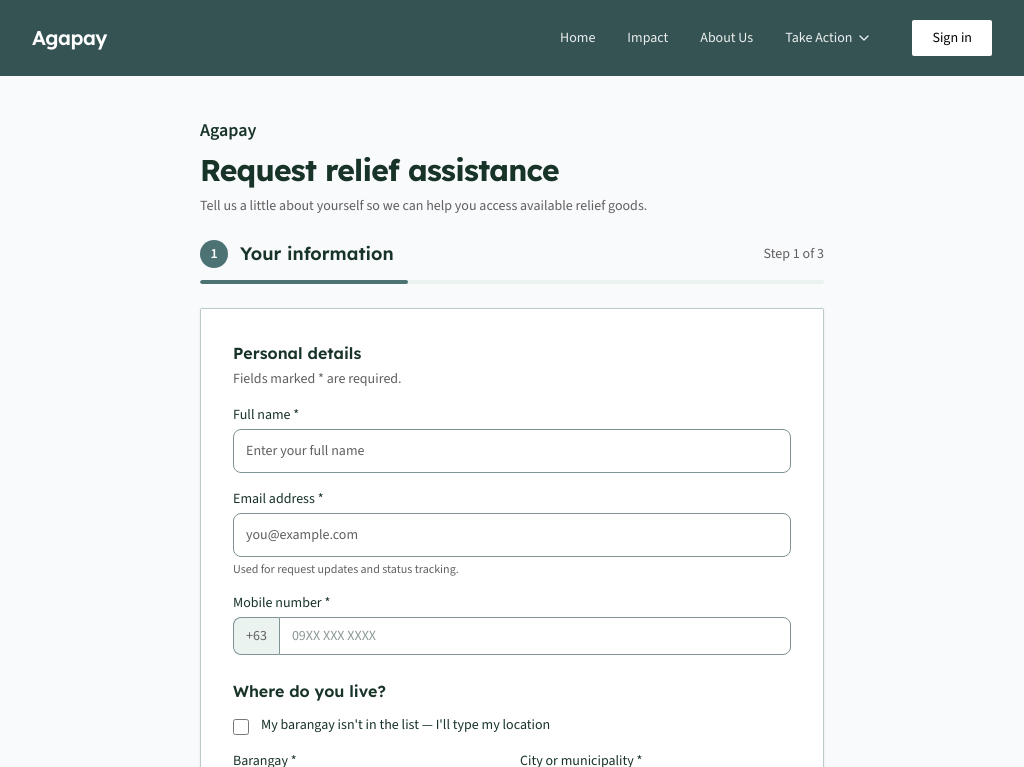
Scenario: RequestAssistancePage › explains when a campaign has no affected areas
Type "Maria Santos" into the field labelled "Full name *". click: (512, 451)
box: [233,429,791,473]
Type "maria@example.com" into the field labelled "Email address *". click: (512, 535)
box: [233,513,791,557]
Type "9171234567" into the field labelled "Mobile number *". click: (535, 636)
box: [279,617,791,655]
(page scrolled)
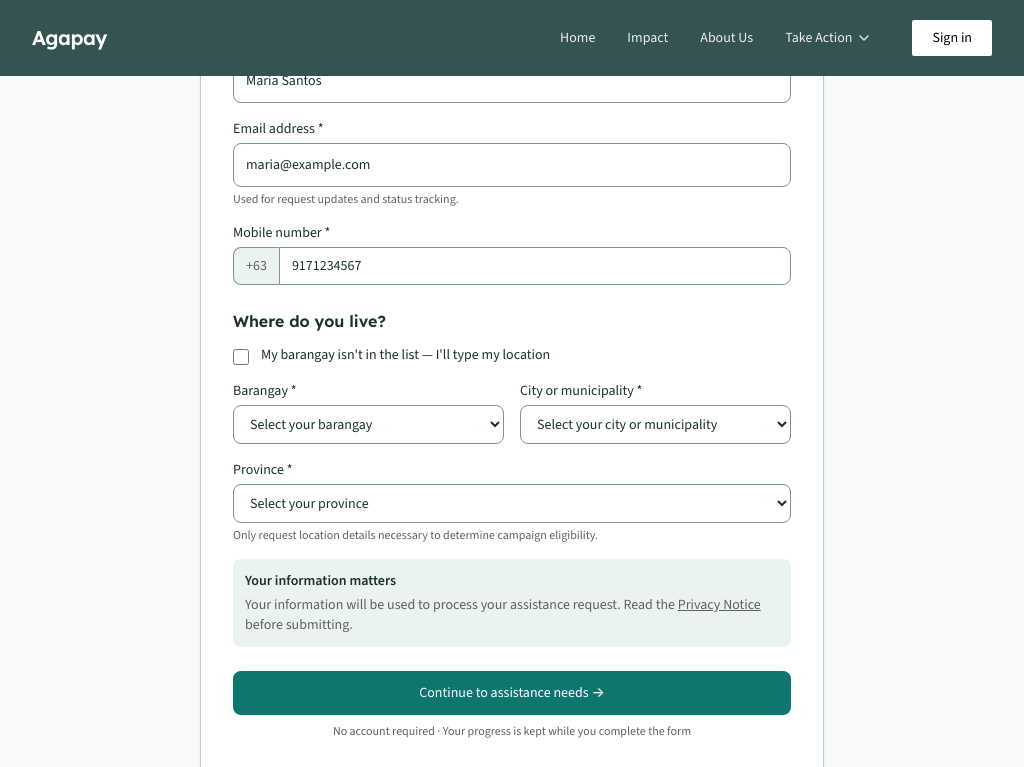
Select "San Isidro" in the dropdown labelled "Barangay *". click: (368, 424)
box: [233,405,504,444]
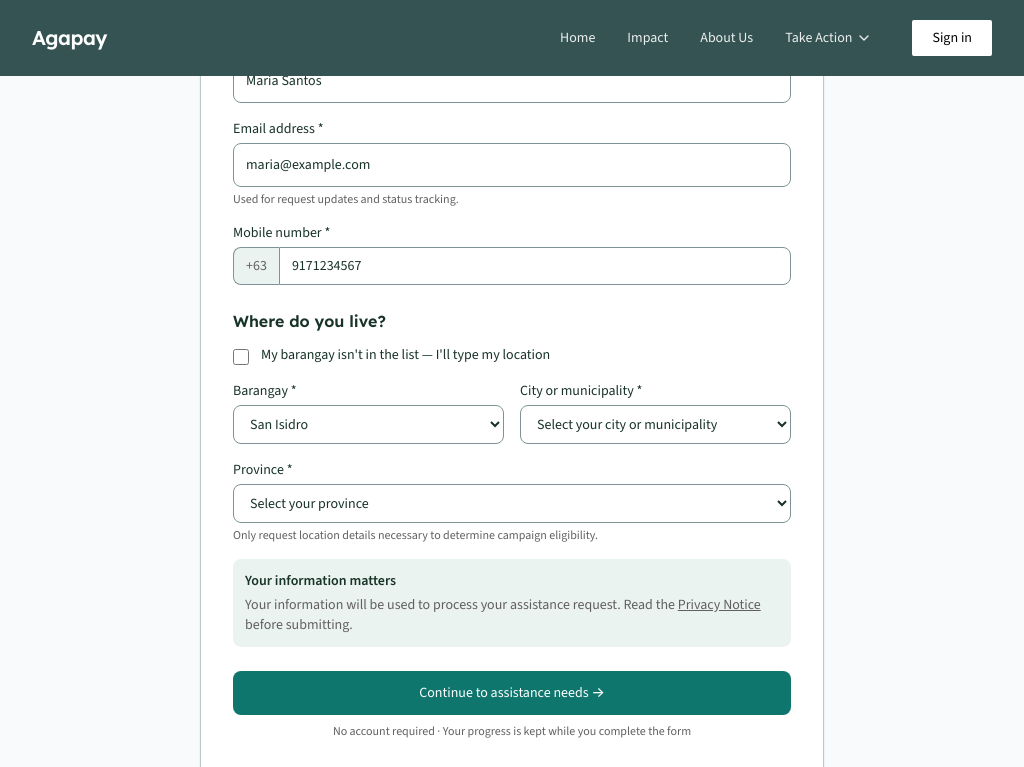
Select "Quezon City" in the dropdown labelled "City or municipality *". click: (656, 424)
box: [520,405,791,444]
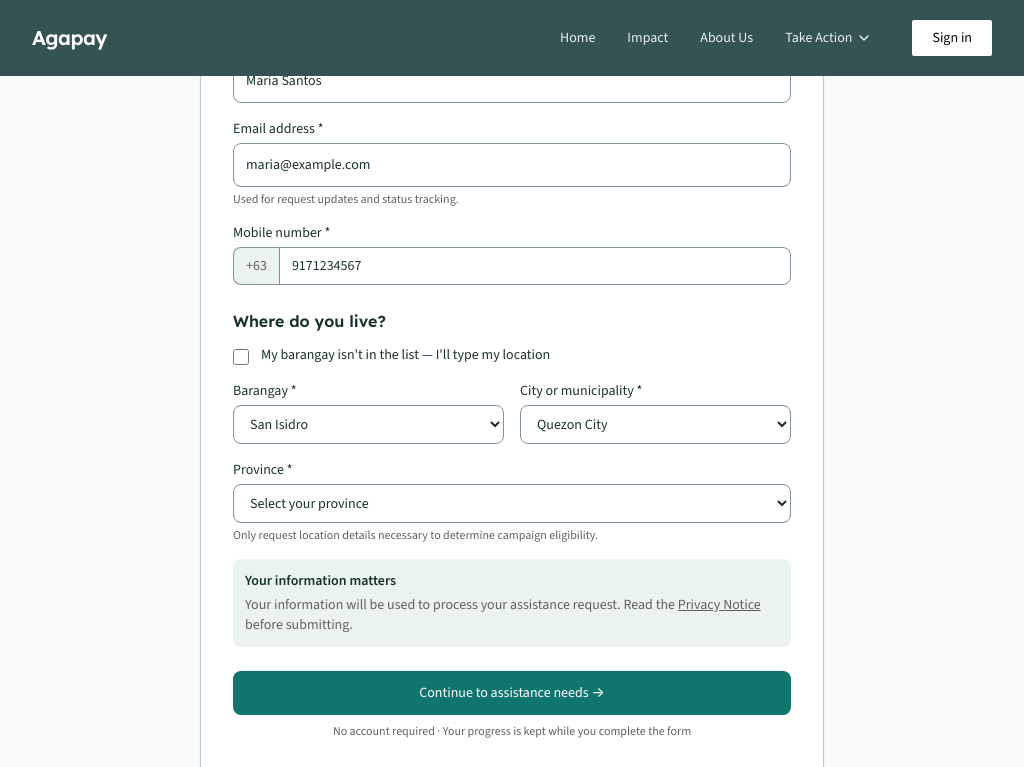
Select "Metro Manila" in the dropdown labelled "Province *". click: (512, 504)
box: [233,484,791,523]
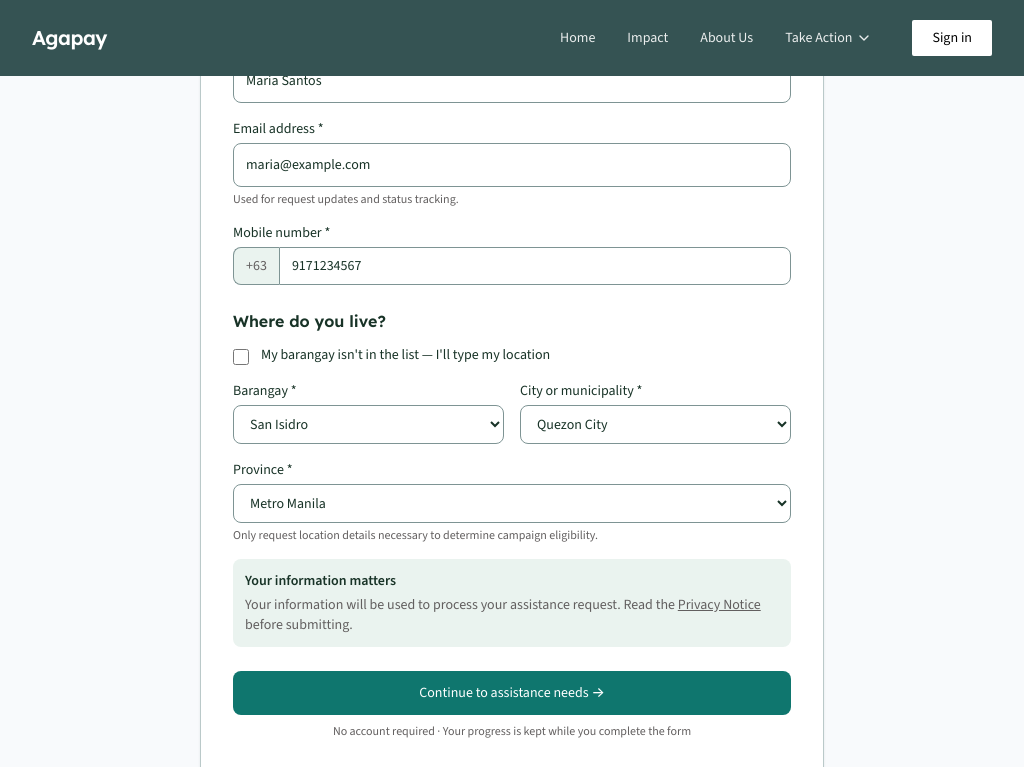
Click the button "Continue to assistance needs →". click: (512, 693)
box: [233,671,791,715]
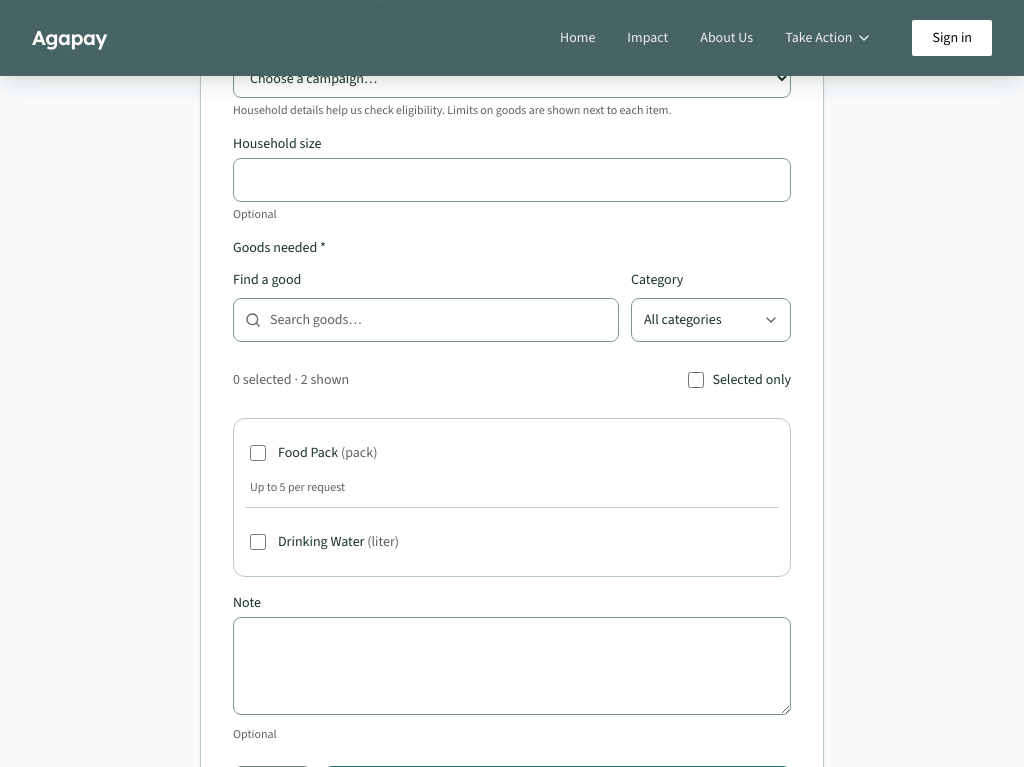
Expected: the dropdown labelled "Relief campaign *" is shown
Select "No Area Campaign" in the dropdown labelled "Relief campaign *". click: (512, 78)
box: [233,59,791,98]
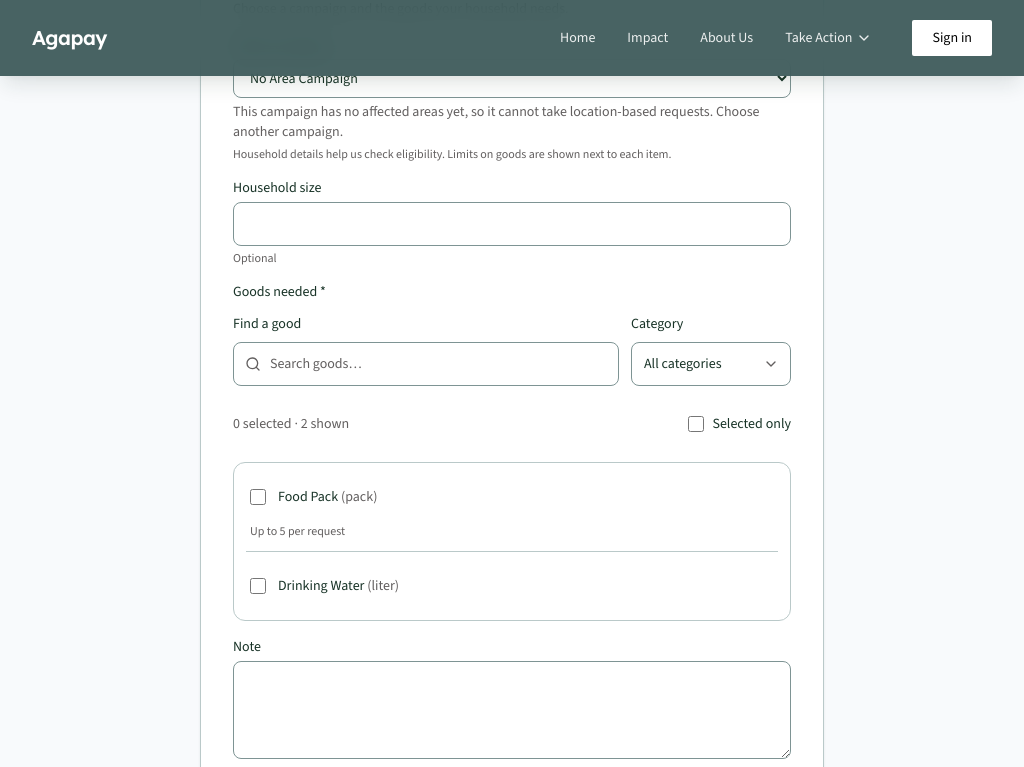
Expected: the text "has no affected areas yet" is shown, [233,102,760,141]
